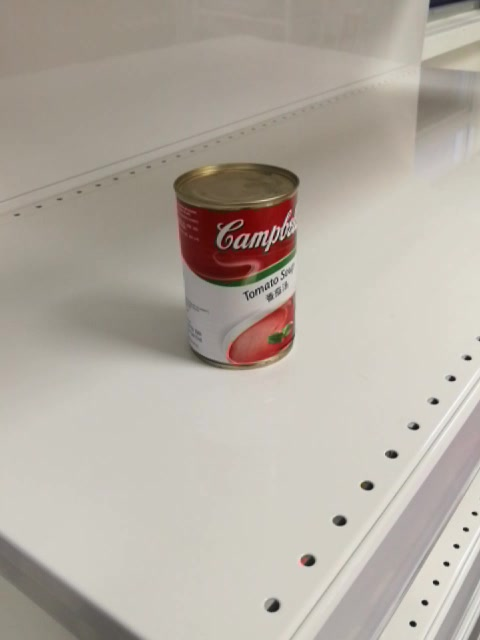tomatosoup: (173, 161, 299, 370)
